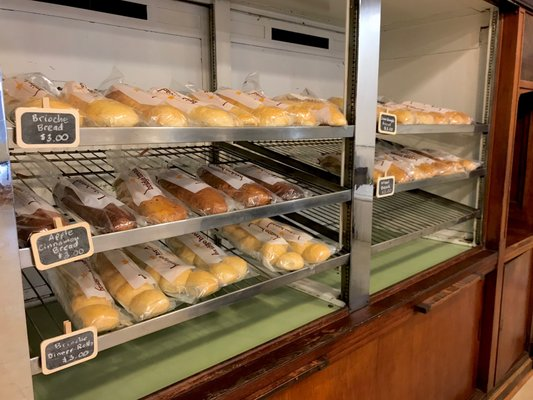salad: (71, 303, 120, 333), (129, 289, 173, 322), (138, 196, 189, 224), (302, 243, 333, 264)
